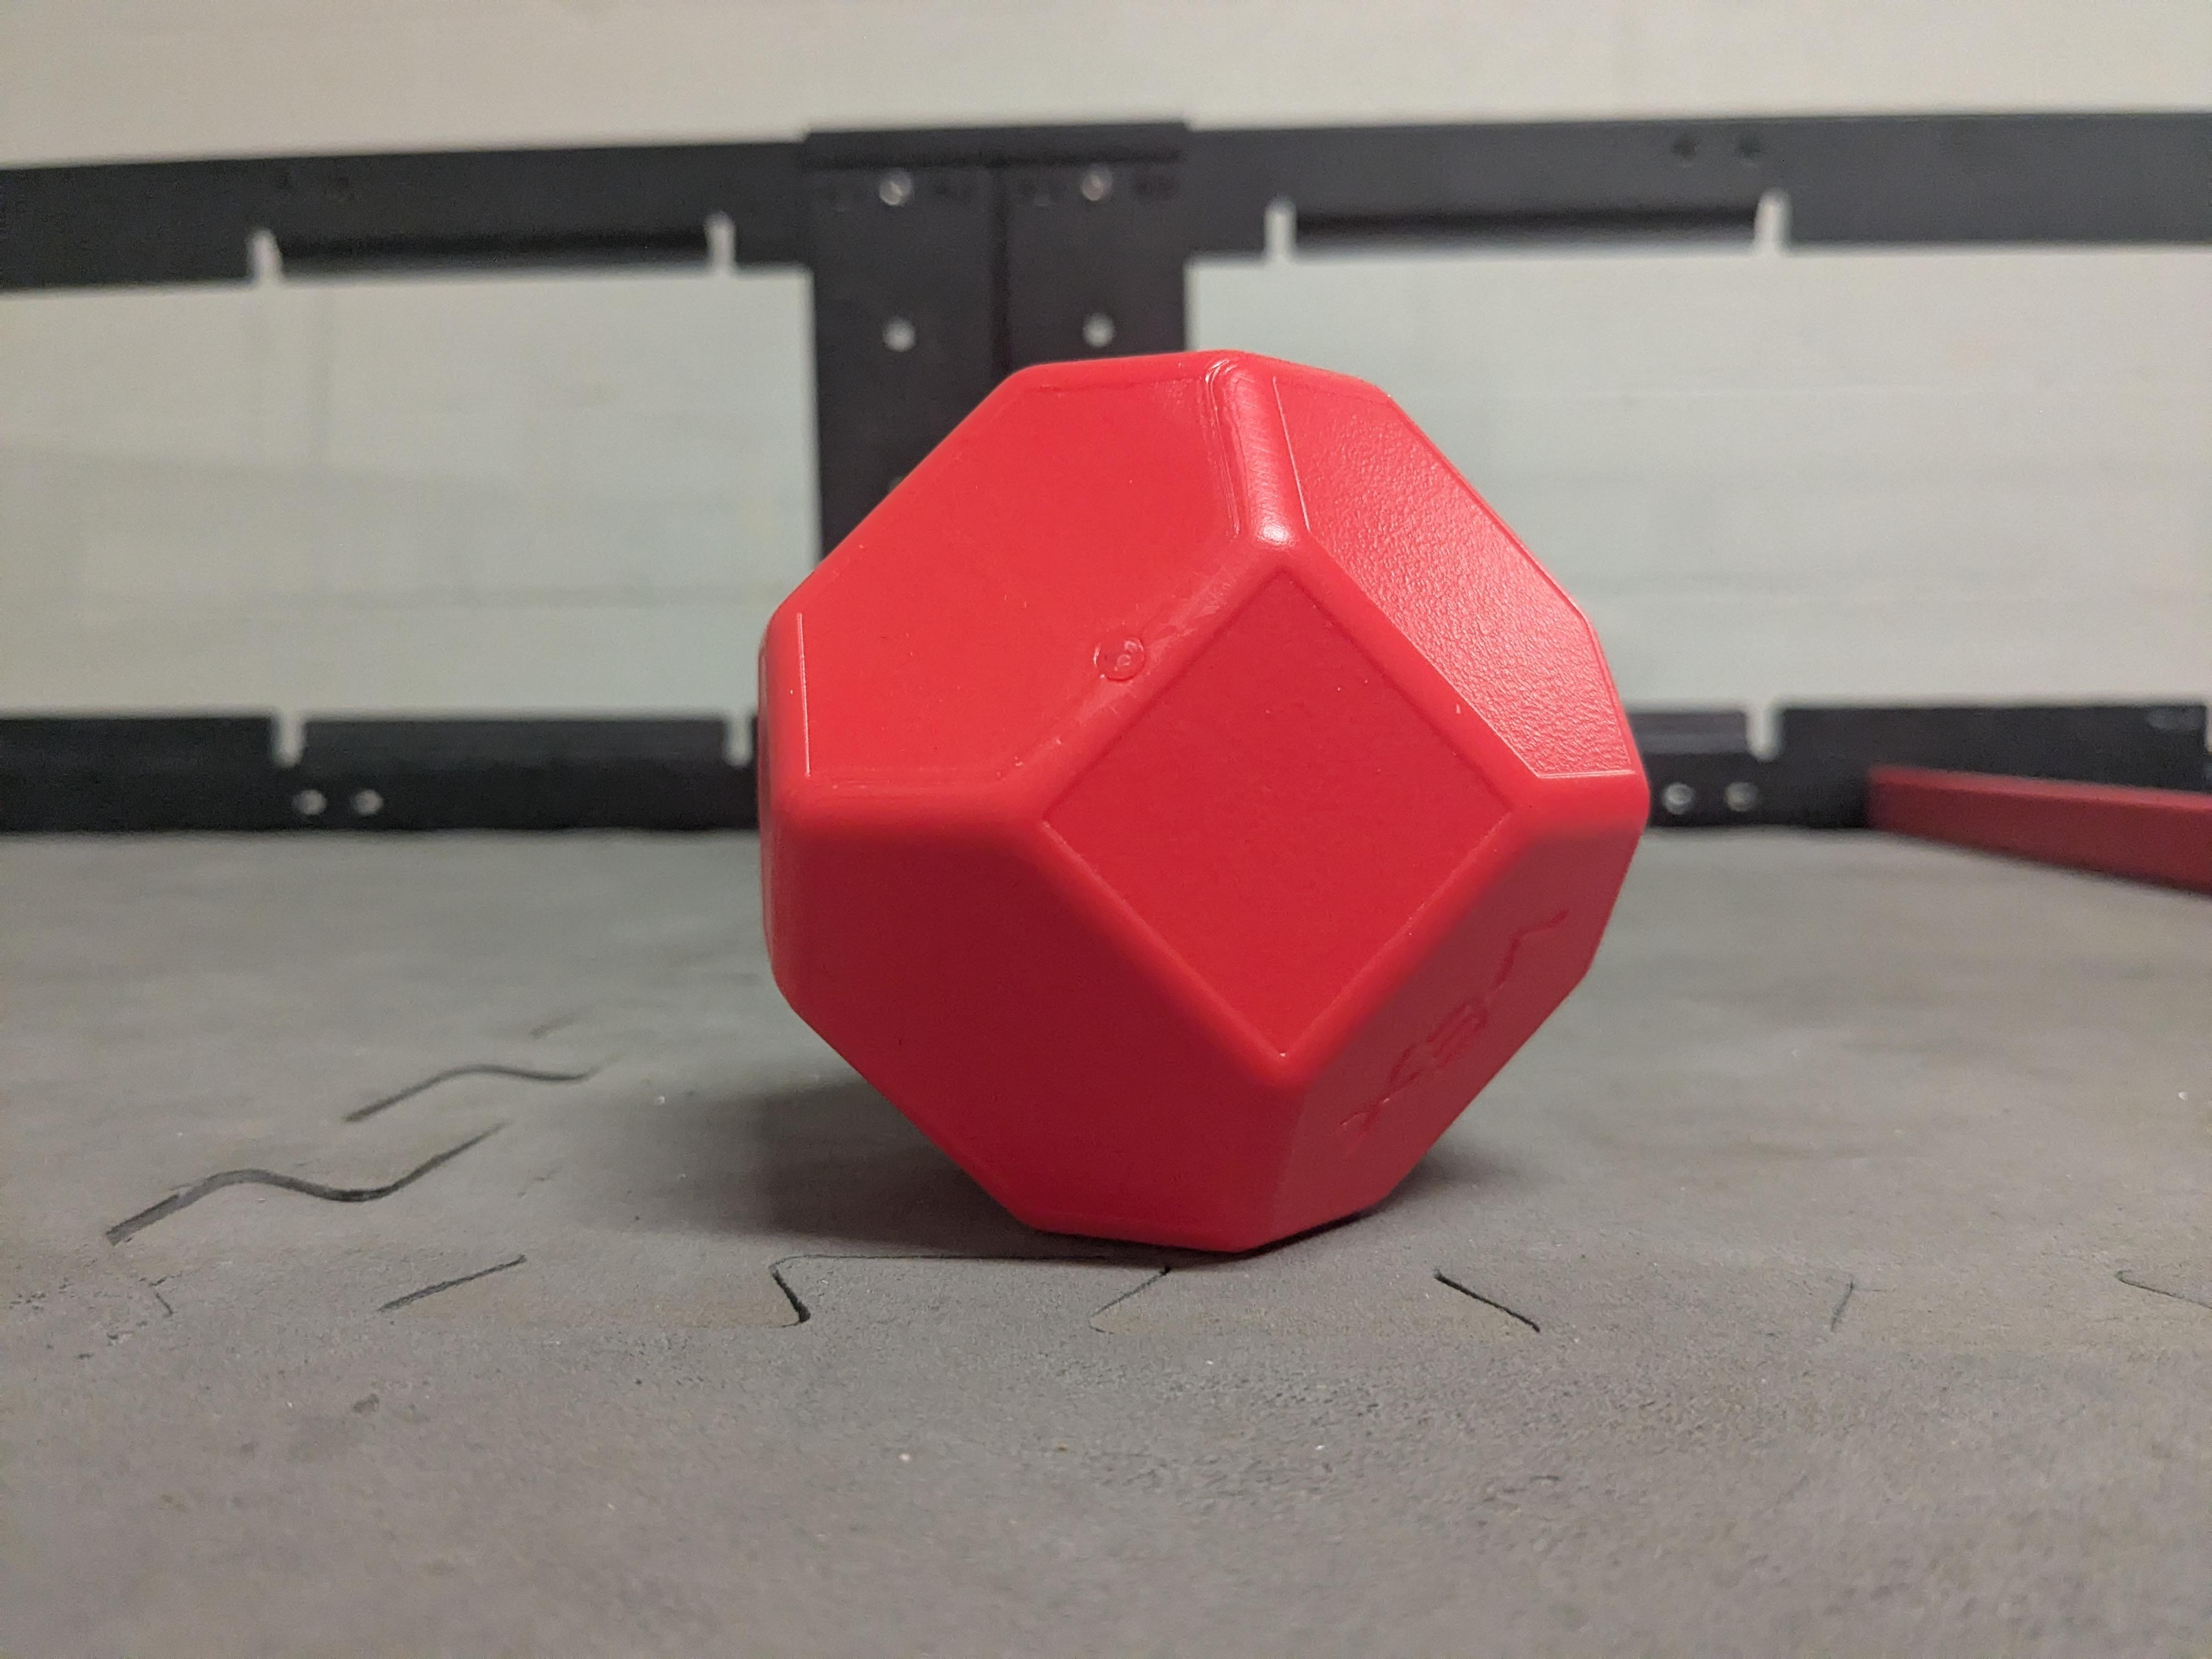Vex-Pieces-RED: (766, 366, 1655, 1262)
